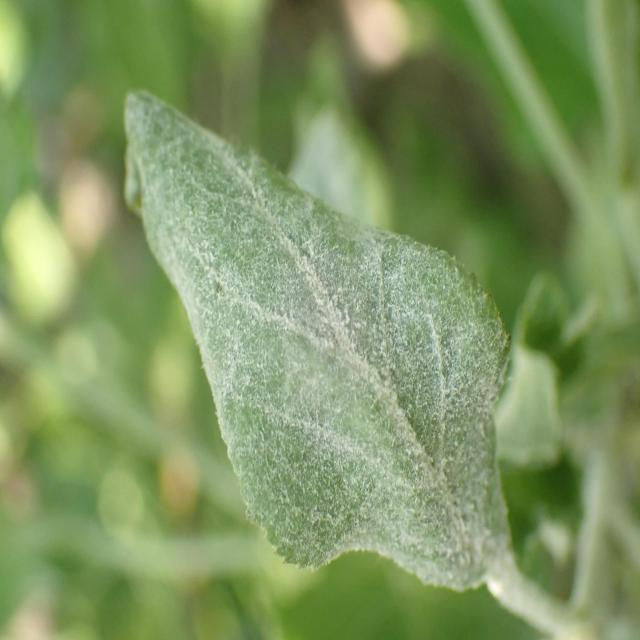Powdery_mildew: (121, 66, 522, 605)
